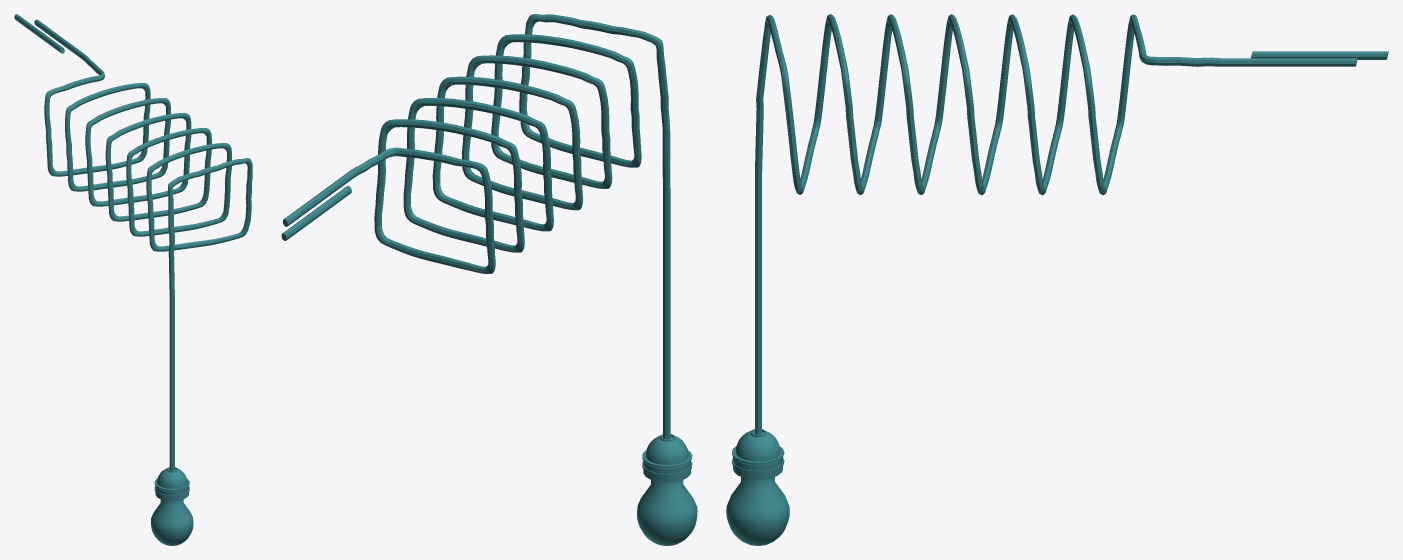
Rendered from lamp low.fbx.
The picture shows the model from 3 angles, left to right: view 1: azimuth 30°, elevation 25°; view 2: azimuth 150°, elevation 25°; view 3: azimuth 270°, elevation 25°; orthographic projection. The views are drawn at different scales.
Visible parts, largest first — view 1: Lamp_03_low, Lamp_04_low, Lamp_02_low, Lamp_01_low; view 2: Lamp_03_low, Lamp_04_low, Lamp_02_low, Lamp_01_low; view 3: Lamp_03_low, Lamp_04_low, Lamp_02_low, Lamp_01_low.
Boxes of the visible parts, left/top/right/bottom form: Lamp_03_low: left=34, top=19, right=252, bottom=470; Lamp_04_low: left=151, top=499, right=193, bottom=545; Lamp_02_low: left=154, top=467, right=189, bottom=501; Lamp_01_low: left=14, top=14, right=64, bottom=53; Lamp_03_low: left=283, top=14, right=670, bottom=439; Lamp_04_low: left=637, top=480, right=697, bottom=545; Lamp_02_low: left=642, top=434, right=692, bottom=482; Lamp_01_low: left=281, top=185, right=351, bottom=240; Lamp_03_low: left=755, top=14, right=1357, bottom=434; Lamp_04_low: left=726, top=477, right=789, bottom=545; Lamp_02_low: left=732, top=429, right=784, bottom=479; Lamp_01_low: left=1251, top=51, right=1388, bottom=59.
Bounding box in the file's own units: 0.185 × 0.585 × 0.6509.
